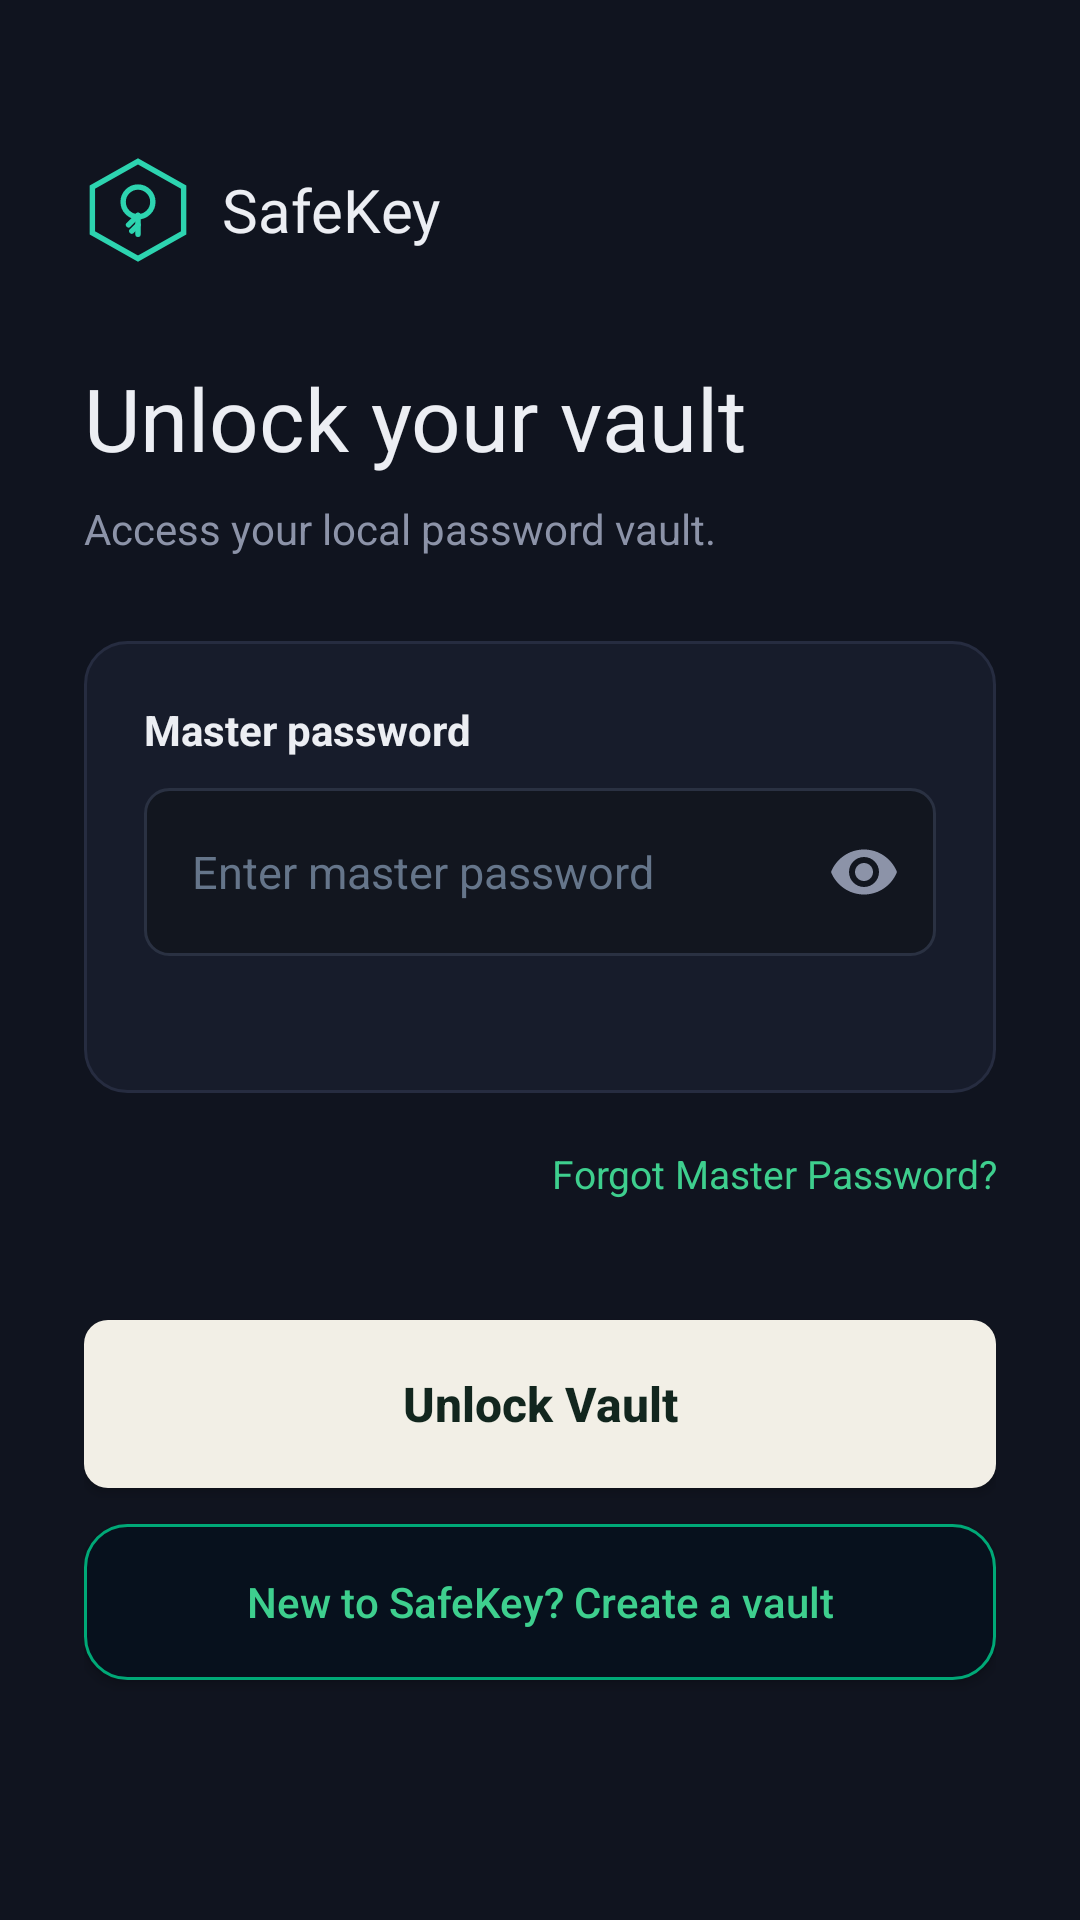

Where to tap for icons on this 1080*1920 app screen, as point (x, y):
Show password: point (864, 872)
